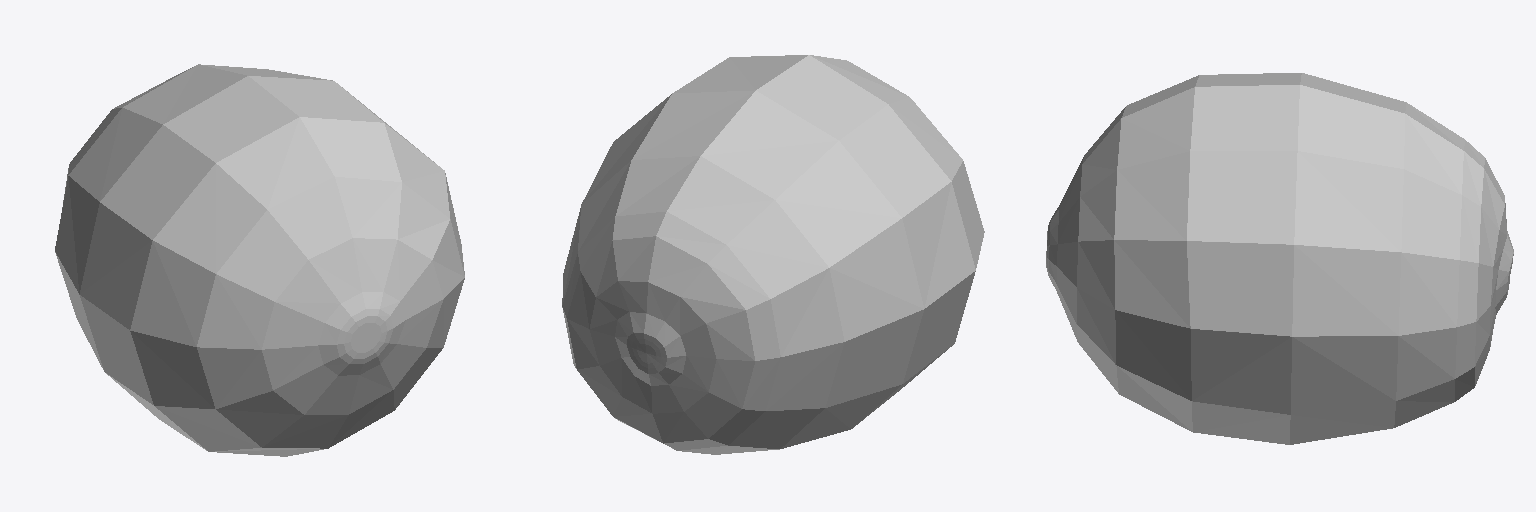
Rendered from Lulo.obj.
3 renders of one model, left to right at view 1: azimuth 30°, elevation 25°; view 2: azimuth 150°, elevation 25°; view 3: azimuth 270°, elevation 25°, orthographic.
Visible parts, largest first — view 1: Lulos.001_kiwi(quads).000; view 2: Lulos.001_kiwi(quads).000; view 3: Lulos.001_kiwi(quads).000.
Part boxes in pixels (x1,y1,x2,y2): Lulos.001_kiwi(quads).000: (55, 64, 464, 456); Lulos.001_kiwi(quads).000: (562, 55, 984, 454); Lulos.001_kiwi(quads).000: (1046, 73, 1513, 444).
Size of the model in its own units: 0.1247 by 0.1231 by 0.1512.